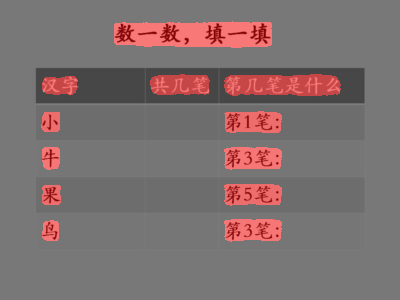text: (114, 22, 271, 44), (226, 75, 341, 94), (149, 76, 211, 94), (225, 184, 279, 204), (225, 112, 280, 131), (225, 148, 279, 166), (226, 221, 279, 239), (40, 76, 80, 96), (42, 148, 60, 168), (41, 186, 61, 204), (42, 220, 58, 240), (42, 113, 58, 130)
